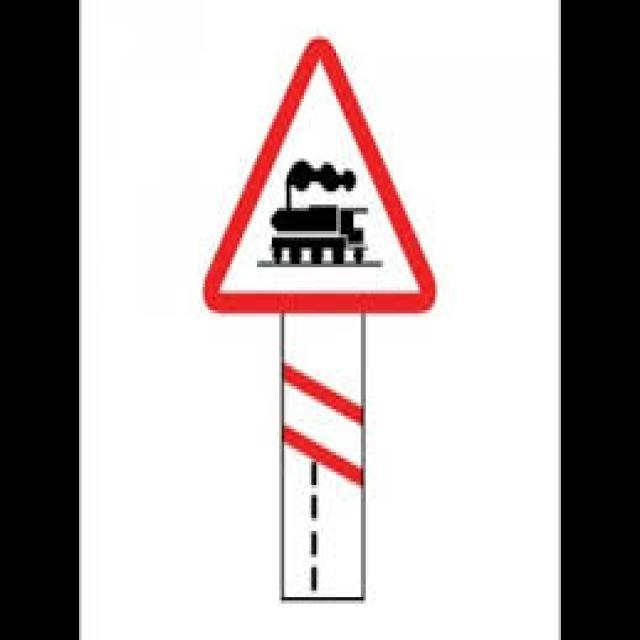unguarded level crossing: (196, 37, 438, 311)
